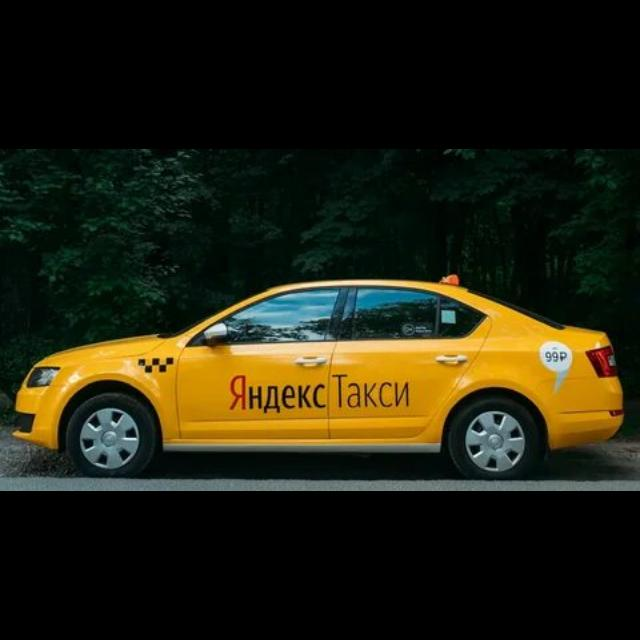taxi: (12, 273, 625, 482)
